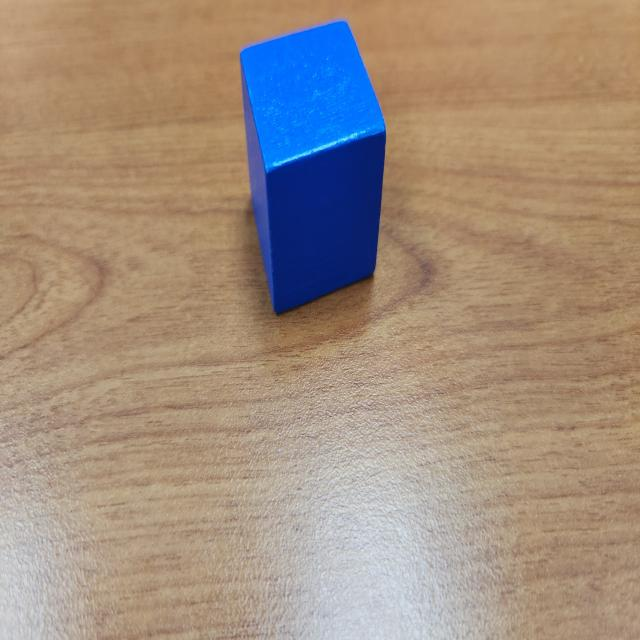blue: (240, 20, 387, 316)
